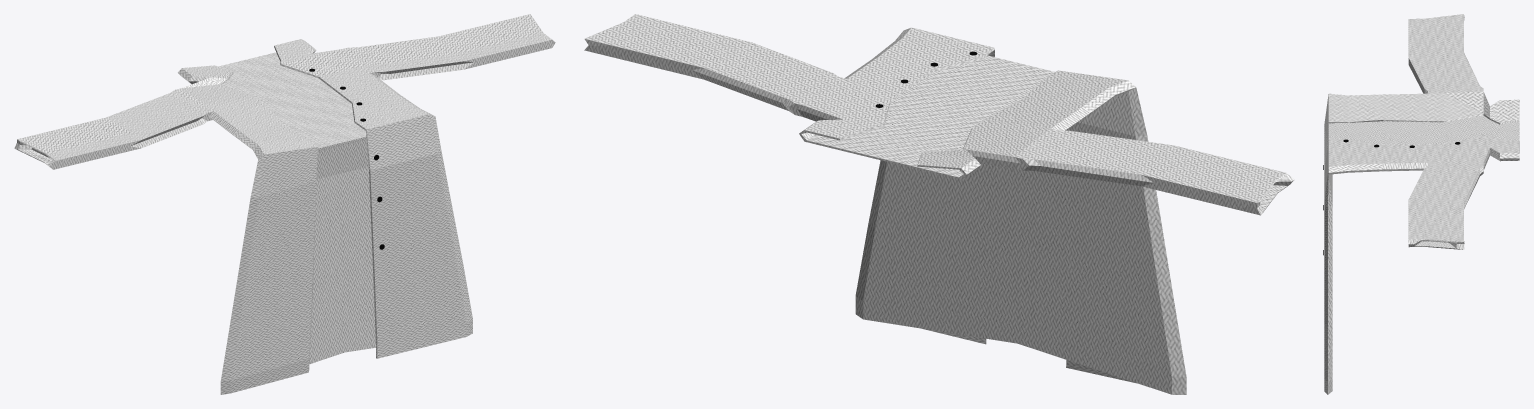
File: bata_lab3.fbx
3 renders of one model, left to right at view 1: azimuth 30°, elevation 25°; view 2: azimuth 150°, elevation 25°; view 3: azimuth 270°, elevation 25°, orthographic. The views are drawn at different scales.
Visible parts, largest first — view 1: labcoat3:Mesh; view 2: labcoat3:Mesh; view 3: labcoat3:Mesh.
Part boxes in pixels (left/top/right/bottom): labcoat3:Mesh: left=14, top=14, right=555, bottom=394; labcoat3:Mesh: left=584, top=14, right=1294, bottom=394; labcoat3:Mesh: left=1323, top=14, right=1519, bottom=394.
Size of the model in its own units: 6.63 by 2.87 by 2.4.
Materials: 2 (1 with a texture image).
